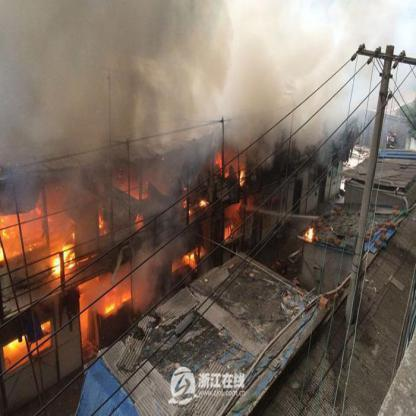fire: (0, 228, 20, 257), (61, 244, 75, 266), (6, 338, 26, 350), (116, 289, 131, 303), (104, 298, 116, 312), (51, 256, 60, 274), (238, 169, 245, 186), (306, 226, 314, 240), (224, 226, 231, 240), (184, 252, 194, 261), (199, 198, 206, 206)
